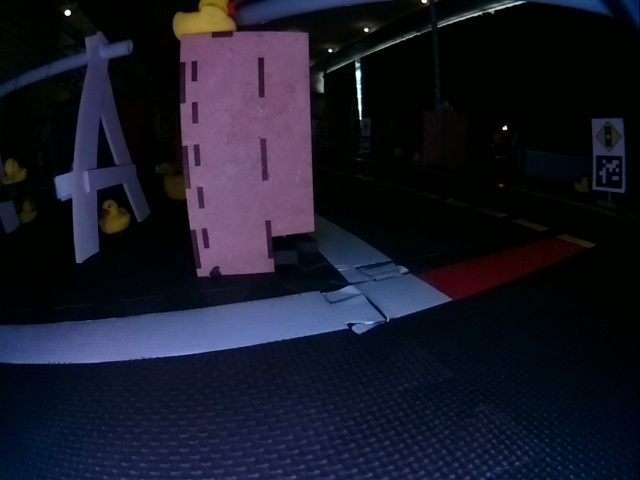Duckie: (175, 1, 236, 38), (100, 200, 130, 234), (6, 159, 26, 185), (17, 203, 37, 223)
QR code: (596, 154, 623, 189)
Signal sign: (594, 121, 623, 152)
